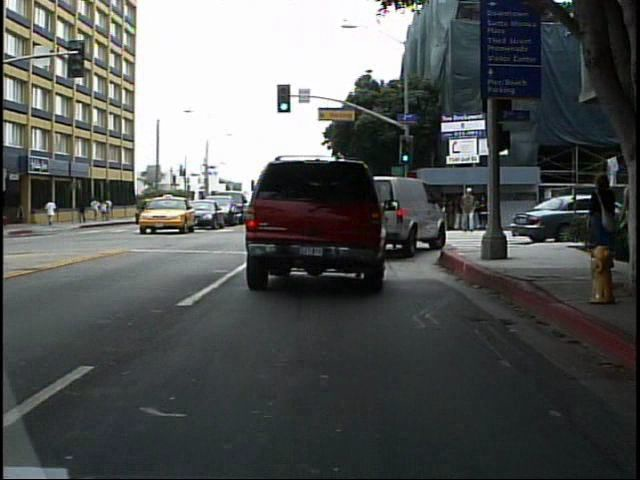person: (588, 168, 628, 275), (459, 184, 478, 234), (45, 194, 59, 228)
